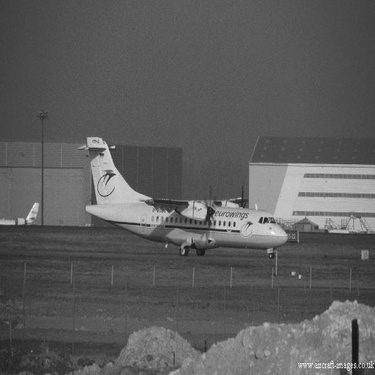airplane: (68, 126, 302, 265), (1, 192, 46, 233)
